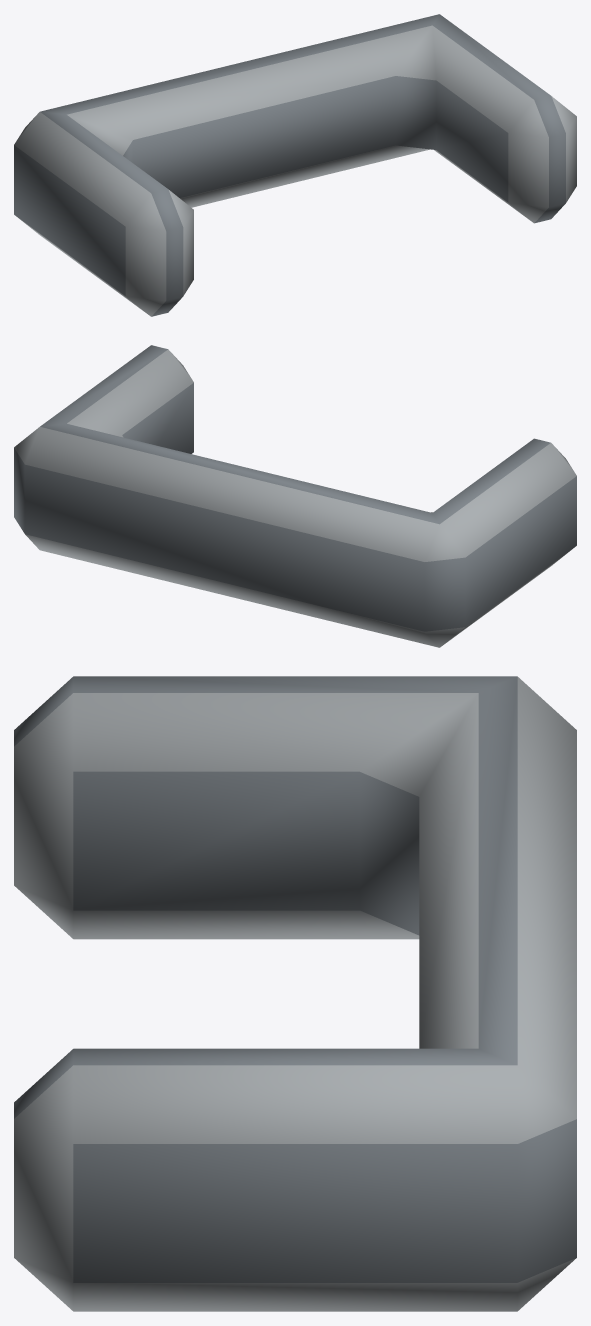
Rendered from Npc_Ammo.fbx.
3 views of the same model, one above another, from view 1: azimuth 30°, elevation 25°; view 2: azimuth 150°, elevation 25°; view 3: azimuth 270°, elevation 25° (orthographic). The views are drawn at different scales.
Parts seen in each view (by area): view 1: Npc_Ammo; view 2: Npc_Ammo; view 3: Npc_Ammo.
Part boxes in pixels (x1,y1,x2,y2): Npc_Ammo: [14, 14, 576, 316]; Npc_Ammo: [14, 345, 576, 647]; Npc_Ammo: [14, 676, 576, 1311].
Size of the model in its own units: 41.29 by 10.8 by 22.38.
